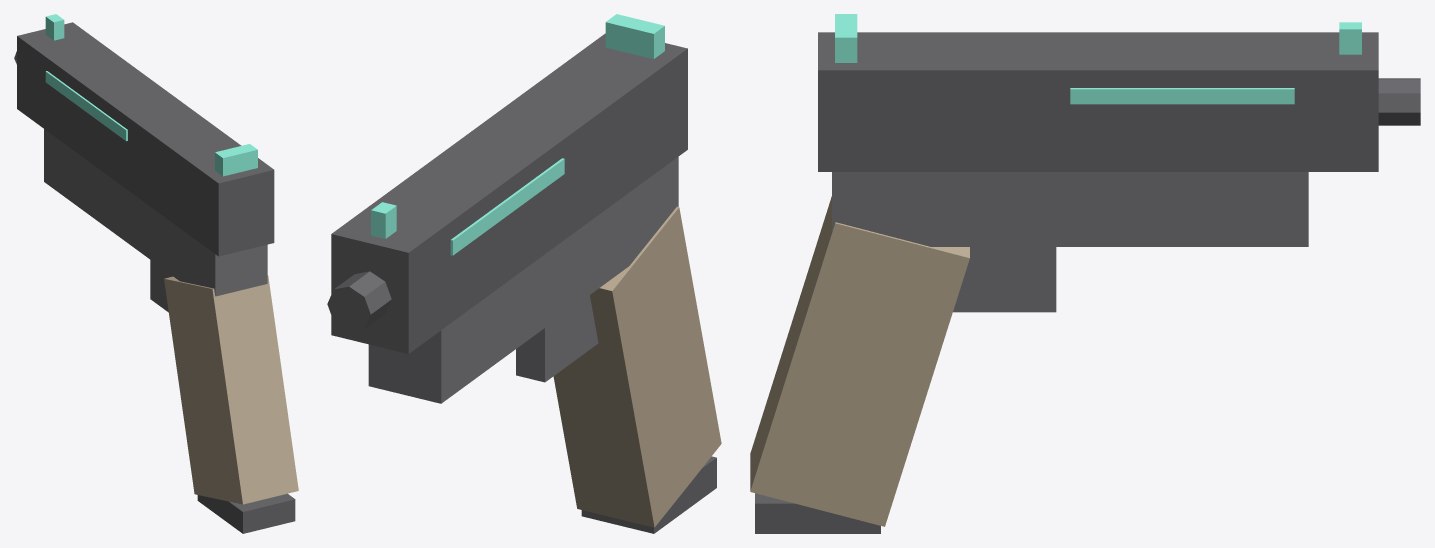
Rendered from Weapon_Pistol.fbx.
3 renders of one model, left to right at view 1: azimuth 30°, elevation 25°; view 2: azimuth 150°, elevation 25°; view 3: azimuth 270°, elevation 25°, orthographic. The views are drawn at different scales.
Visible parts, largest first — view 1: SlideMesh, GripMesh, Frame, MagBase, SlideGlow, RearSight, TriggerGuard, FrontSight; view 2: SlideMesh, GripMesh, Frame, TriggerGuard, BarrelTip, SlideGlow, RearSight, MagBase, FrontSight; view 3: SlideMesh, GripMesh, Frame, TriggerGuard, SlideGlow, MagBase, BarrelTip, RearSight.
Part boxes in pixels (x1,y1,x2,y2): SlideMesh: (17, 22, 274, 256); GripMesh: (164, 275, 298, 504); Frame: (44, 129, 267, 296); MagBase: (197, 493, 295, 533); SlideGlow: (45, 71, 127, 141); RearSight: (215, 144, 257, 176); TriggerGuard: (150, 260, 172, 312); FrontSight: (45, 14, 64, 40); SlideMesh: (331, 33, 687, 353); GripMesh: (553, 206, 721, 527); Frame: (368, 157, 678, 403); TriggerGuard: (516, 295, 598, 382); BarrelTip: (327, 271, 391, 331); SlideGlow: (450, 158, 564, 255); RearSight: (605, 14, 664, 59); MagBase: (581, 456, 716, 533); FrontSight: (371, 202, 396, 238); SlideMesh: (818, 32, 1378, 171); GripMesh: (750, 196, 969, 526); Frame: (832, 172, 1308, 246); TriggerGuard: (953, 247, 1056, 312); SlideGlow: (1070, 88, 1294, 104); MagBase: (755, 493, 880, 533); BarrelTip: (1378, 78, 1420, 125); RearSight: (835, 14, 857, 62).
Size of the model in its own units: 0.034 by 0.2392 by 0.193.
